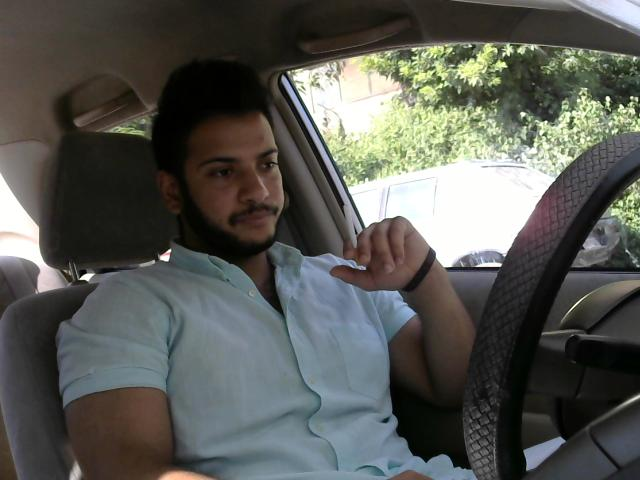Smoking: (341, 193, 369, 265)
